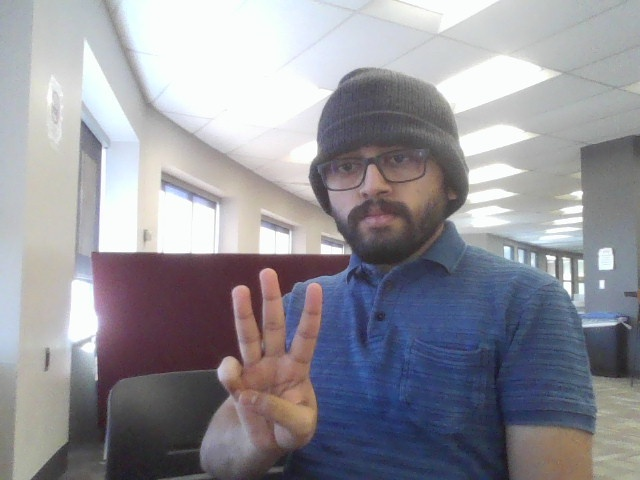start: (208, 260, 341, 474)
